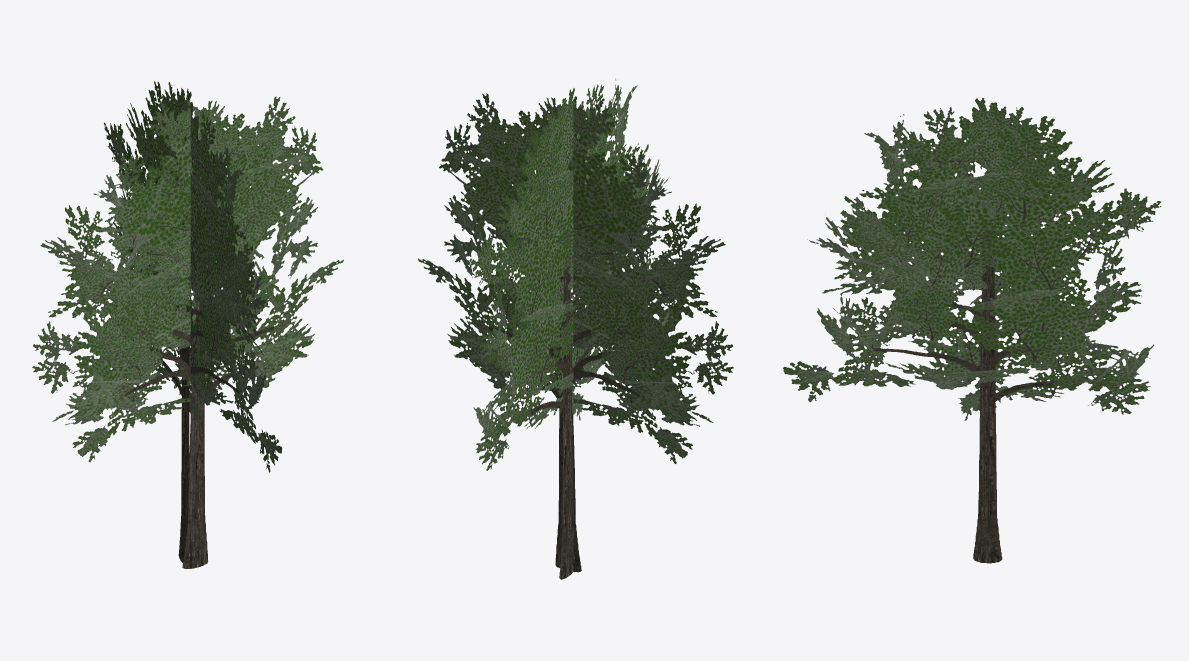
Rendered from Tree_Acerbic_B_Lod3.fbx.
The picture shows the model from 3 angles, left to right: view 1: azimuth 30°, elevation 25°; view 2: azimuth 150°, elevation 25°; view 3: azimuth 270°, elevation 25°; orthographic projection. The views are drawn at different scales.
Parts seen in each view (by area): view 1: Tree_Acerbic_Lod3; view 2: Tree_Acerbic_Lod3; view 3: Tree_Acerbic_Lod3.
Boxes of the visible parts, x1,y1,x2,y2 form: Tree_Acerbic_Lod3: (32,81,343,568); Tree_Acerbic_Lod3: (418,78,733,579); Tree_Acerbic_Lod3: (783,98,1160,563).
Size of the model in its own units: 267 by 348 by 267.
1 material, 1 textured.
